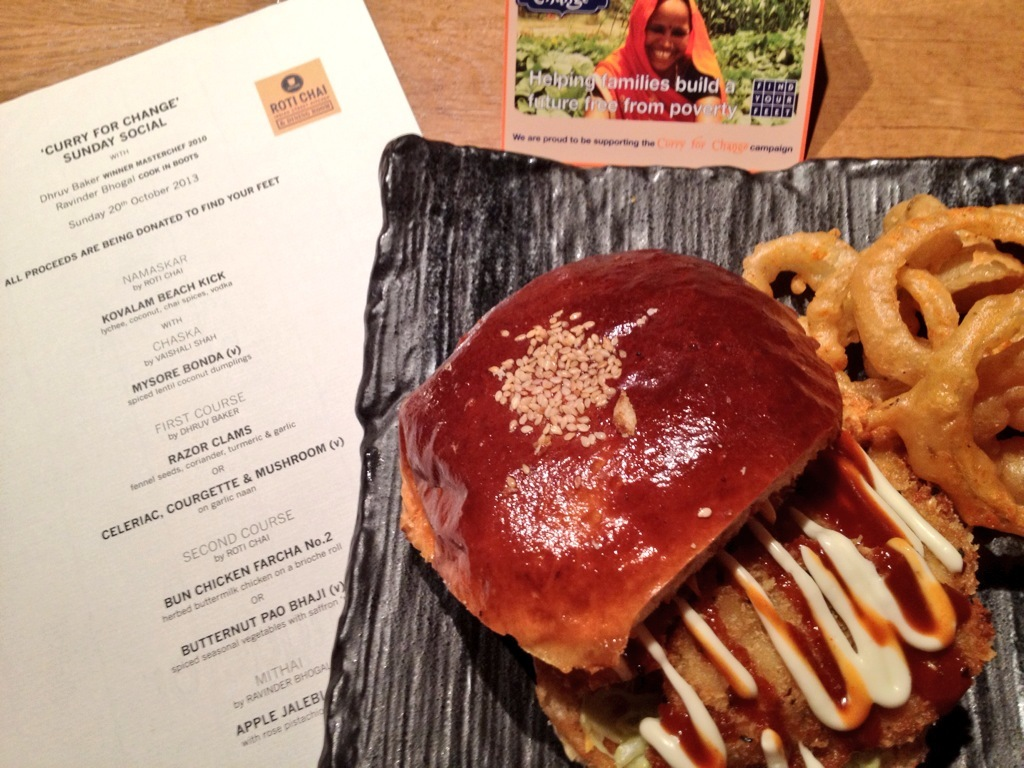Hamburger: (401, 249, 995, 767)
